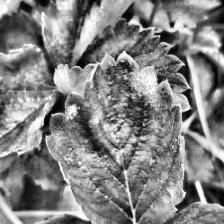Powdery Mildew Leaf: (45, 51, 186, 224), (51, 15, 192, 112), (0, 42, 62, 174), (39, 0, 156, 68)
